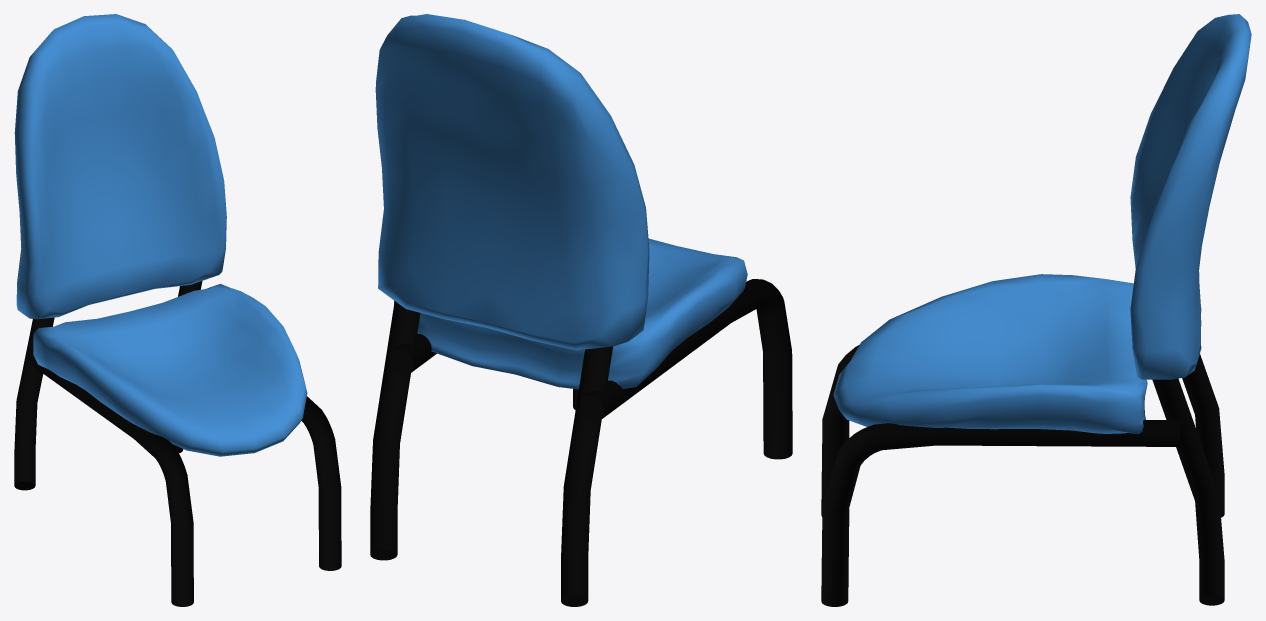
The model's file is chair.obj.
3 views of the same model, side by side, from view 1: azimuth 30°, elevation 25°; view 2: azimuth 150°, elevation 25°; view 3: azimuth 270°, elevation 25° (orthographic). The views are drawn at different scales.
Parts seen in each view (by area): view 1: Box001, seat, Cylinder002, Cylinder003, Cylinder001; view 2: Box001, seat, Cylinder002, Cylinder001, Cylinder004, Cylinder003; view 3: seat, Box001, Cylinder003, Cylinder004, Cylinder001, Cylinder002.
Boxes of the visible parts, x1=… form: Box001: x1=14, y1=14, x2=226, y2=319; seat: x1=33, y1=284, x2=307, y2=456; Cylinder002: x1=28, y1=349, x2=193, y2=606; Cylinder003: x1=301, y1=396, x2=341, y2=570; Cylinder001: x1=14, y1=317, x2=54, y2=490; Box001: x1=375, y1=14, x2=649, y2=350; seat: x1=394, y1=238, x2=747, y2=389; Cylinder002: x1=580, y1=279, x2=792, y2=459; Cylinder001: x1=561, y1=346, x2=612, y2=606; Cylinder004: x1=370, y1=301, x2=420, y2=560; Cylinder003: x1=389, y1=334, x2=578, y2=409; seat: x1=833, y1=274, x2=1147, y2=433; Box001: x1=1130, y1=14, x2=1251, y2=379; Cylinder003: x1=821, y1=420, x2=1179, y2=606; Cylinder004: x1=1152, y1=378, x2=1224, y2=605; Cylinder001: x1=1182, y1=354, x2=1224, y2=517; Cylinder002: x1=821, y1=344, x2=859, y2=516.
Size of the model in its own units: 50.92 by 108 by 79.6.
2 materials, 2 textured.
